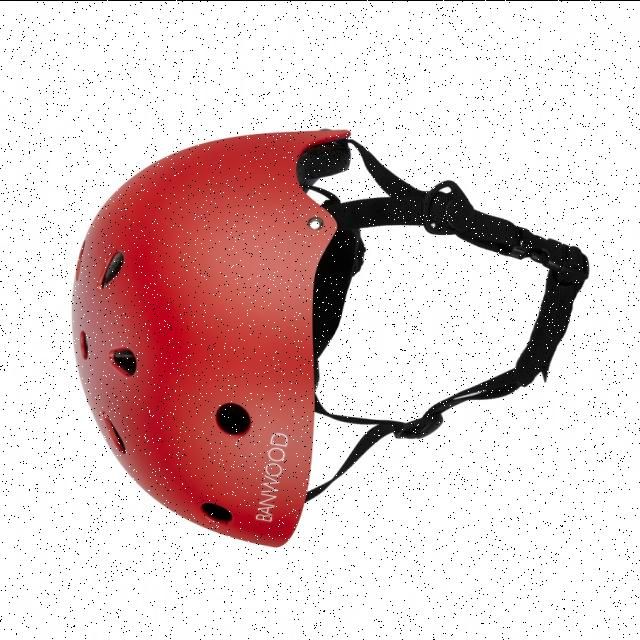Helmet: (72, 129, 348, 546)
